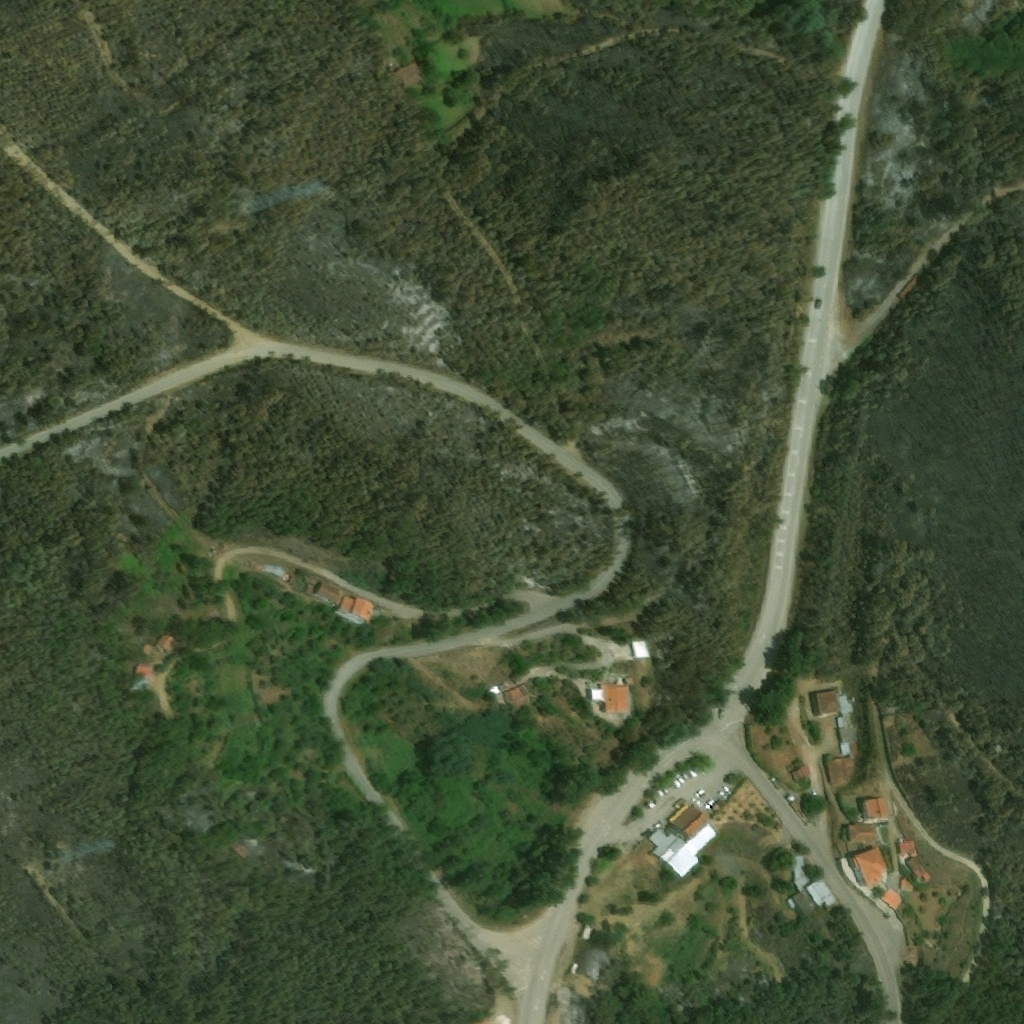0 no-damage: (646, 801, 717, 878), (847, 847, 888, 888), (811, 690, 855, 719), (339, 594, 377, 622), (598, 684, 632, 715), (804, 880, 840, 909), (834, 717, 856, 757), (392, 63, 421, 91), (793, 856, 813, 892), (827, 760, 854, 786), (503, 684, 530, 710), (905, 857, 933, 882), (314, 581, 343, 605), (861, 798, 888, 822), (791, 801, 814, 827), (848, 824, 879, 842), (630, 638, 654, 660), (156, 634, 176, 653), (899, 839, 918, 857), (131, 666, 150, 684), (899, 879, 914, 892), (792, 770, 805, 782)
4 un-classified: (502, 0, 558, 14), (582, 803, 597, 820)
